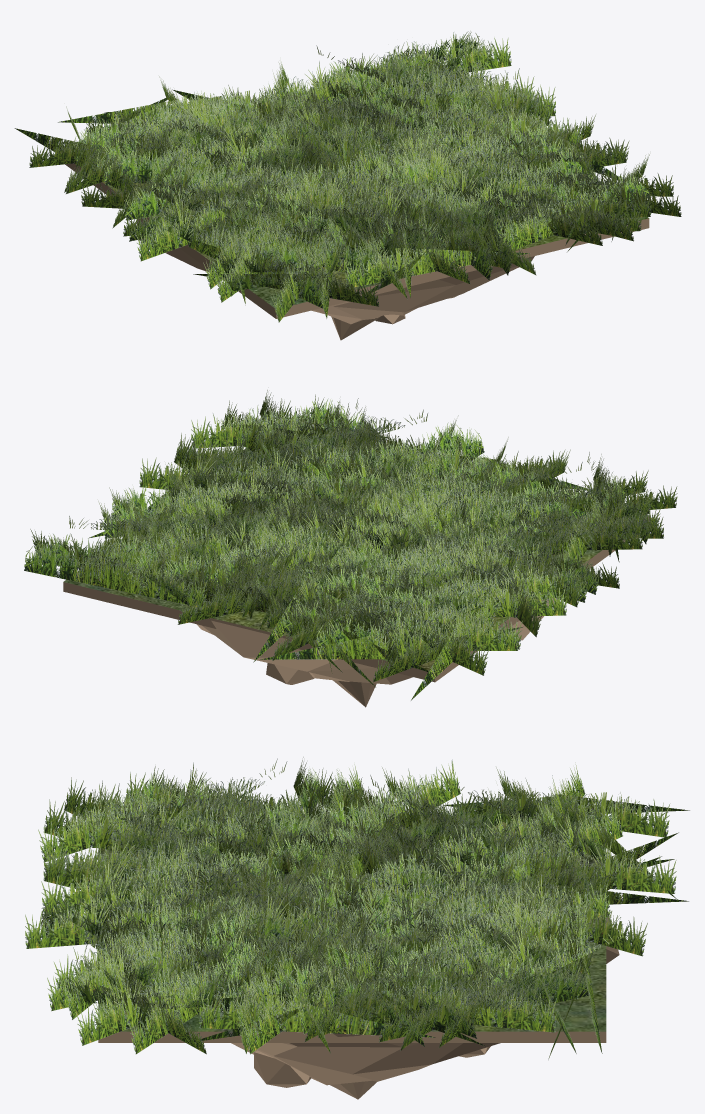
File: island.glb
3 renders of one model, top to bottom at view 1: azimuth 30°, elevation 25°; view 2: azimuth 150°, elevation 25°; view 3: azimuth 270°, elevation 25°, orthographic. The views are drawn at different scales.
Parts seen in each view (by area): view 1: Patch_Grass, Patch_Underside, Patch_Ground, Patch_Soil; view 2: Patch_Grass, Patch_Underside, Patch_Ground, Patch_Soil, Patch_Stone_0; view 3: Patch_Grass, Patch_Underside, Patch_Soil, Patch_Ground, Patch_Stone_3.
Part boxes in pixels (<box>): Patch_Grass: <box>14,31,681,322</box>; Patch_Underside: <box>137,219,534,340</box>; Patch_Ground: <box>65,163,649,318</box>; Patch_Soil: <box>93,82,648,308</box>; Patch_Grass: <box>24,390,677,700</box>; Patch_Underside: <box>197,598,556,707</box>; Patch_Ground: <box>63,516,649,682</box>; Patch_Soil: <box>63,438,649,671</box>; Patch_Stone_0: <box>266,663,314,684</box>; Patch_Grass: <box>25,757,689,1059</box>; Patch_Underside: <box>231,917,619,1099</box>; Patch_Soil: <box>98,817,606,1031</box>; Patch_Ground: <box>98,1031,606,1042</box>; Patch_Stone_3: <box>254,1050,311,1087</box>.
Size of the model in its own units: 3.87 by 1.43 by 3.87.
Materials: 4 (2 with a texture image).
